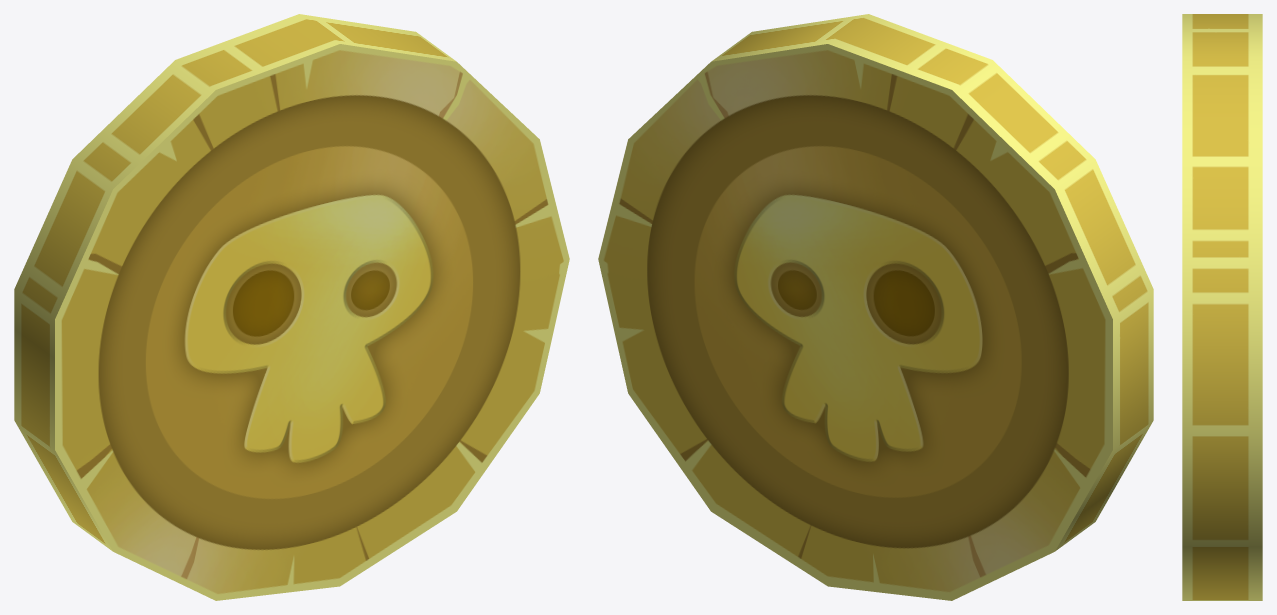
The model's file is coin.fbx.
3 renders of one model, left to right at view 1: azimuth 30°, elevation 25°; view 2: azimuth 150°, elevation 25°; view 3: azimuth 270°, elevation 25°, orthographic.
Parts seen in each view (by area): view 1: coin; view 2: coin; view 3: coin.
Part boxes in pixels (x1,y1,x2,y2): coin: [14, 14, 569, 600]; coin: [598, 14, 1153, 600]; coin: [1182, 14, 1262, 600].
Size of the model in its own units: 0.7715 by 0.7771 by 0.106.
1 material, 1 textured.
